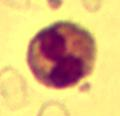monocyte: (21, 17, 100, 88)
